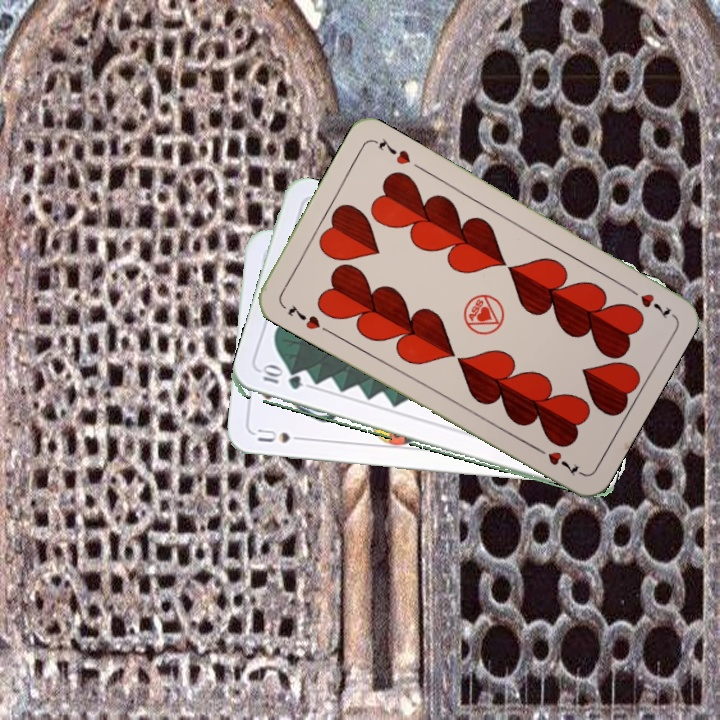G10: (257, 365, 305, 392)
H7: (622, 282, 674, 320), (283, 300, 323, 332)
SU: (253, 425, 310, 445)
